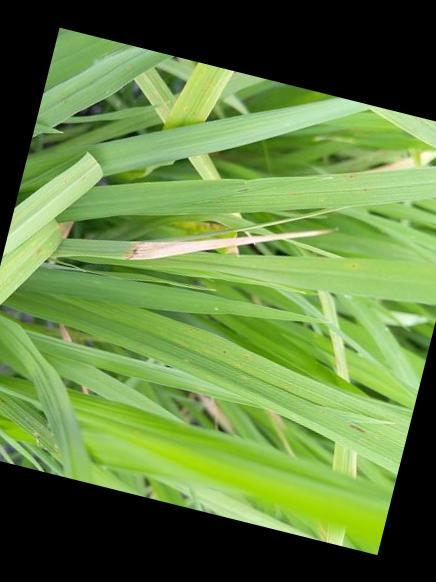Leaf Blight: (50, 227, 329, 259)
